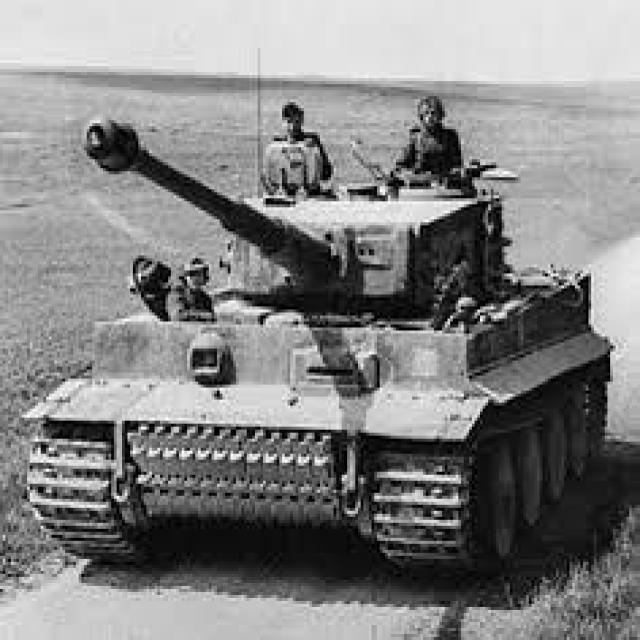MIL_MBT: (27, 146, 613, 566)
